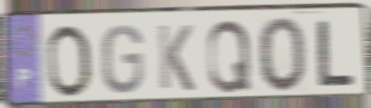G: (100, 23, 146, 96)
K: (155, 22, 196, 94)
L: (315, 19, 357, 89)
O: (256, 15, 309, 95), (45, 22, 95, 100)
Q: (205, 17, 253, 95)
